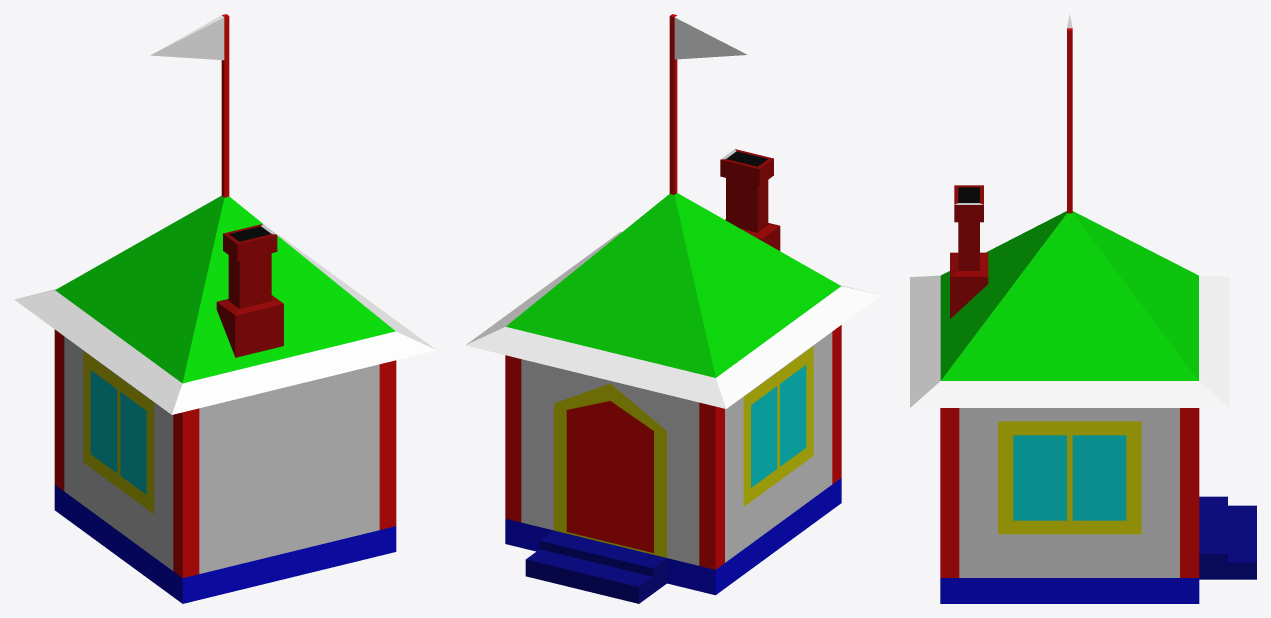
File: FBX_Town.fbx
3 views of the same model, side by side, from view 1: azimuth 30°, elevation 25°; view 2: azimuth 150°, elevation 25°; view 3: azimuth 270°, elevation 25° (orthographic). The views are drawn at different scales.
Visible parts, largest first — view 1: Town; view 2: Town; view 3: Town.
Boxes of the visible parts, <box> form: Town: <box>14,14,436,603</box>; Town: <box>465,14,881,603</box>; Town: <box>910,14,1256,603</box>.
Bounding box in the file's own units: 161 × 300 × 181.
